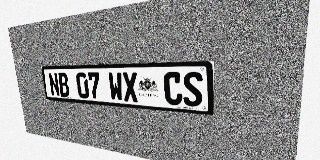0: (75, 73, 89, 99)
7: (87, 72, 101, 100)
B: (57, 73, 70, 97)
C: (163, 72, 183, 106)
N: (48, 73, 60, 97)
S: (182, 72, 203, 107)
W: (108, 72, 124, 101)
X: (122, 72, 139, 102)
